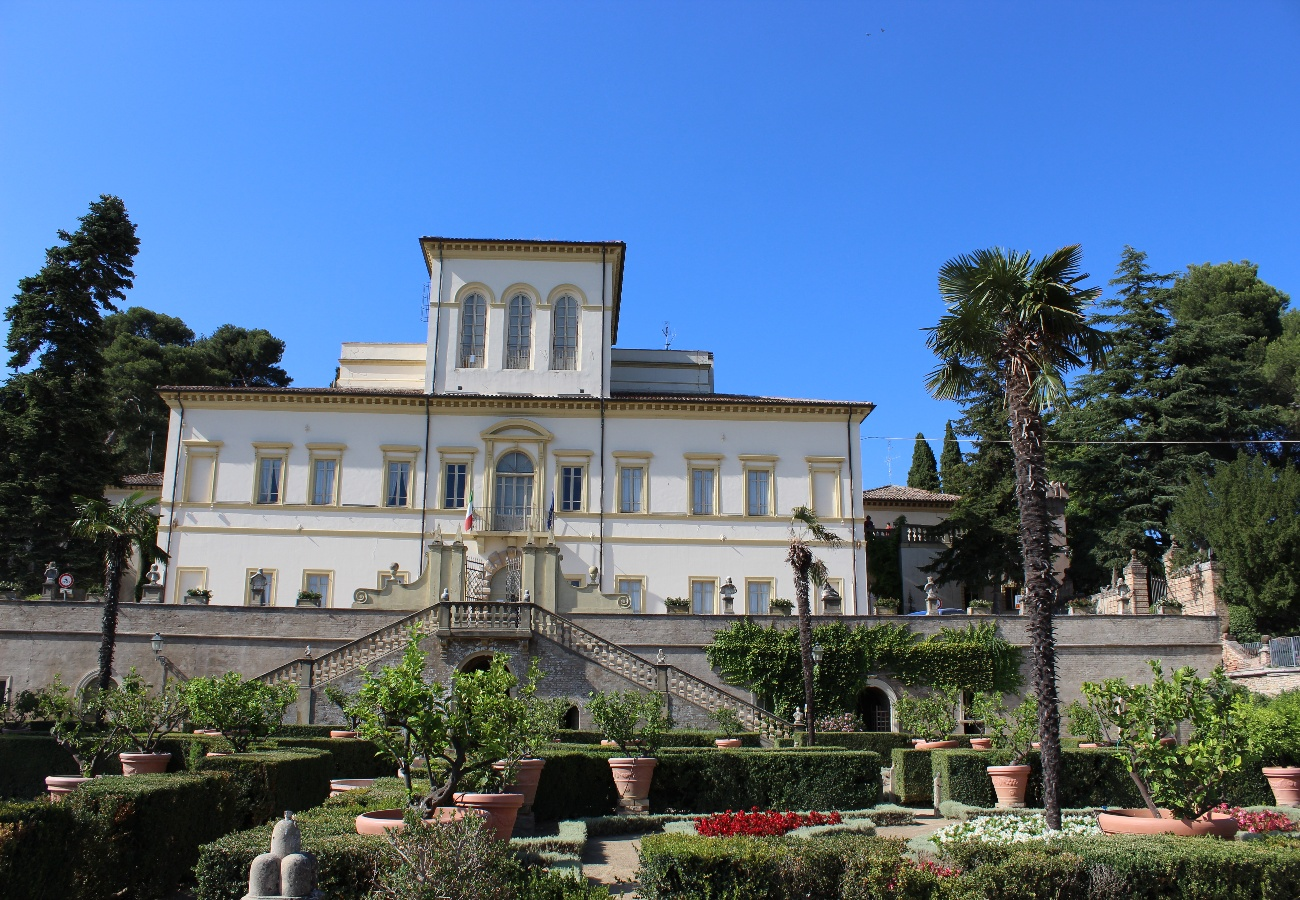Villa Caprile: (149, 232, 880, 632)
